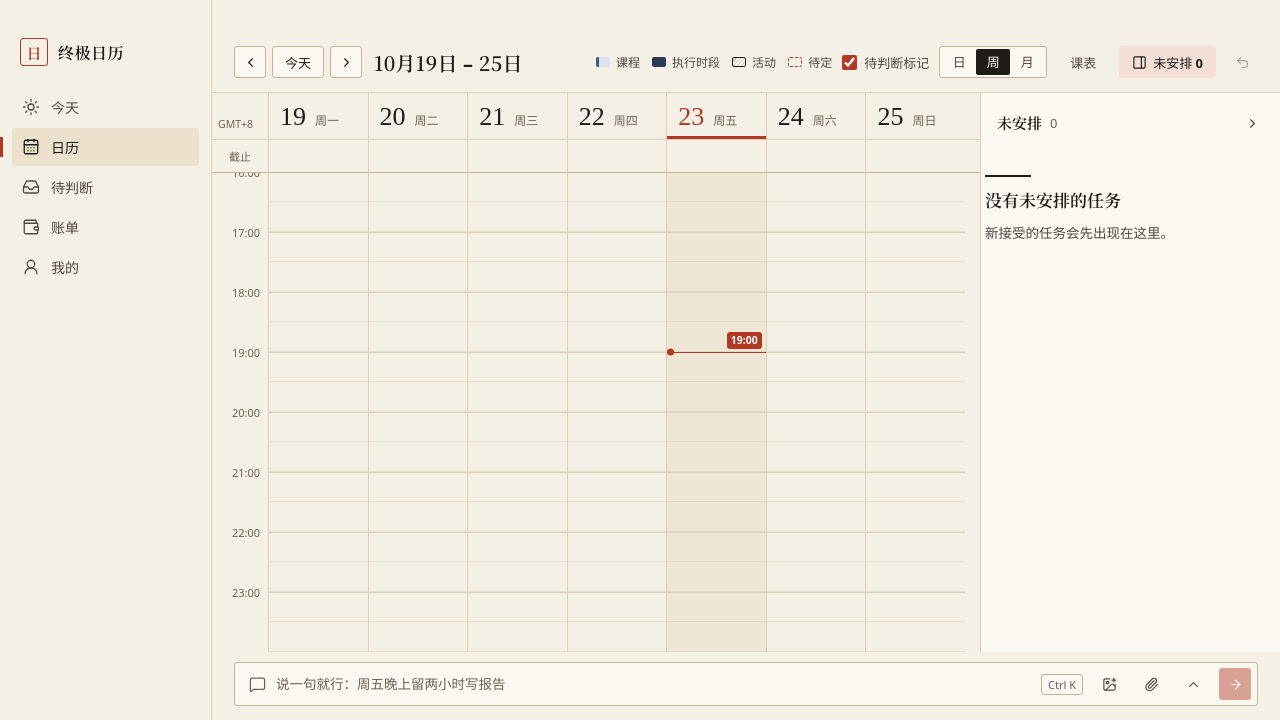
Test case: cancelled activity presentation › retains cancelled history in task details and never reopens it as an editable arrangement
(page scrolled)
Expected: the element named "未安排任务" is shown, [980,93,1279,652]
What coordinates should you click on to do the following:
click the button "今天" below "终极日历"
I would click on:
 (106, 107)
Its box is [12,88,199,126].
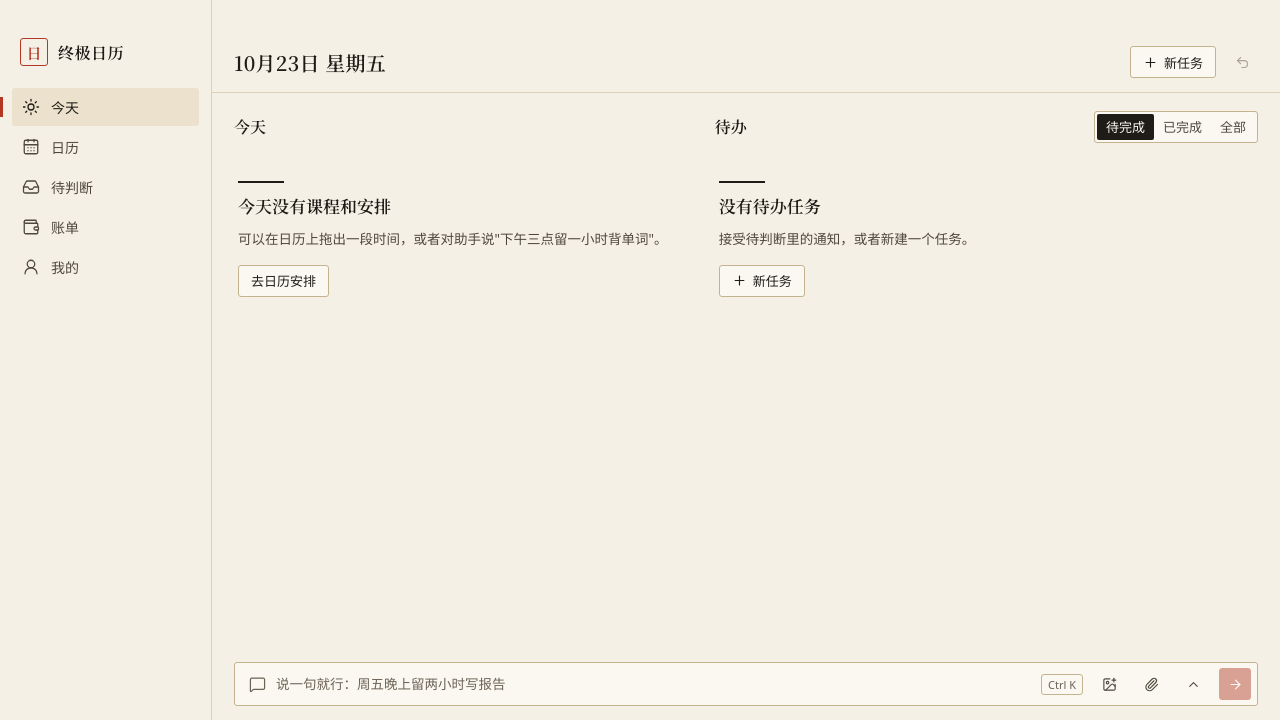
Expected: the button "双周值班" is not shown
What coordinates should you click on to do the following:
click the button "全部"
I would click on:
 (1233, 127)
Its box is [1211,114,1255,140].
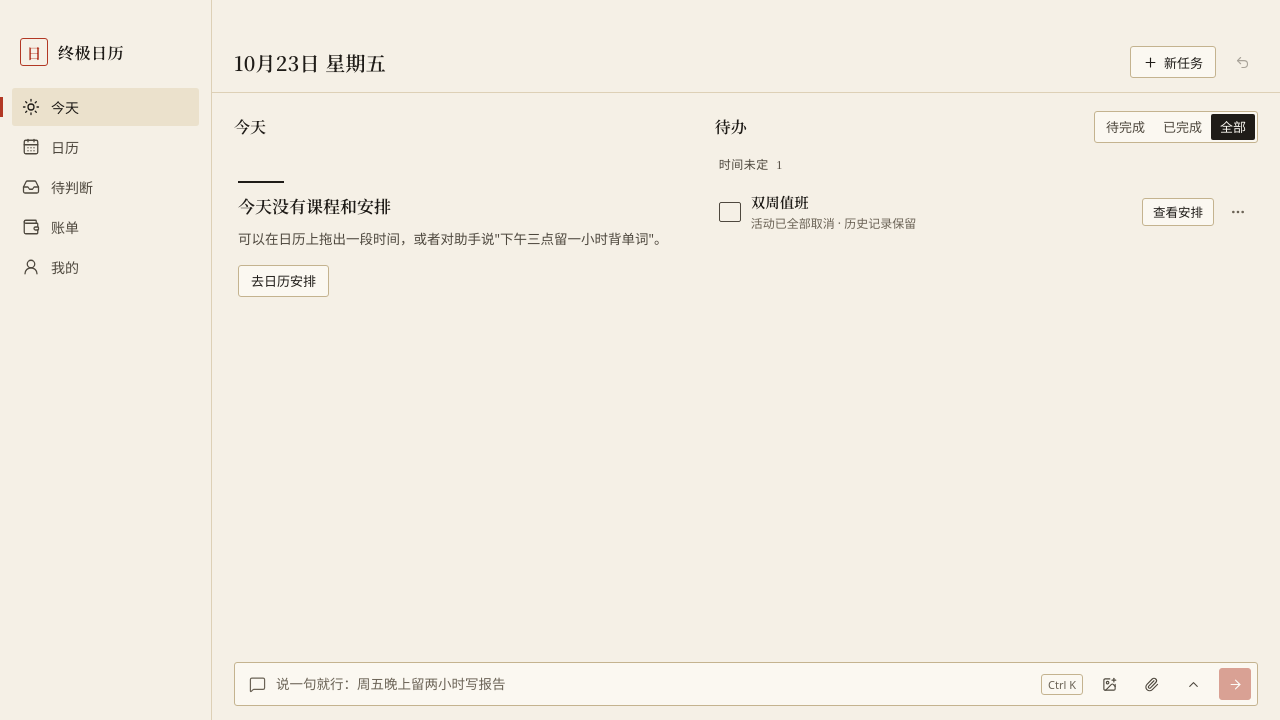
Expected: the text "活动已全部取消 · 历史记录保留" is shown, [751,214,916,232]
What coordinates should you click on to do the following:
click the button "查看安排"
I would click on:
 (1178, 212)
Its box is [1142,198,1214,226].
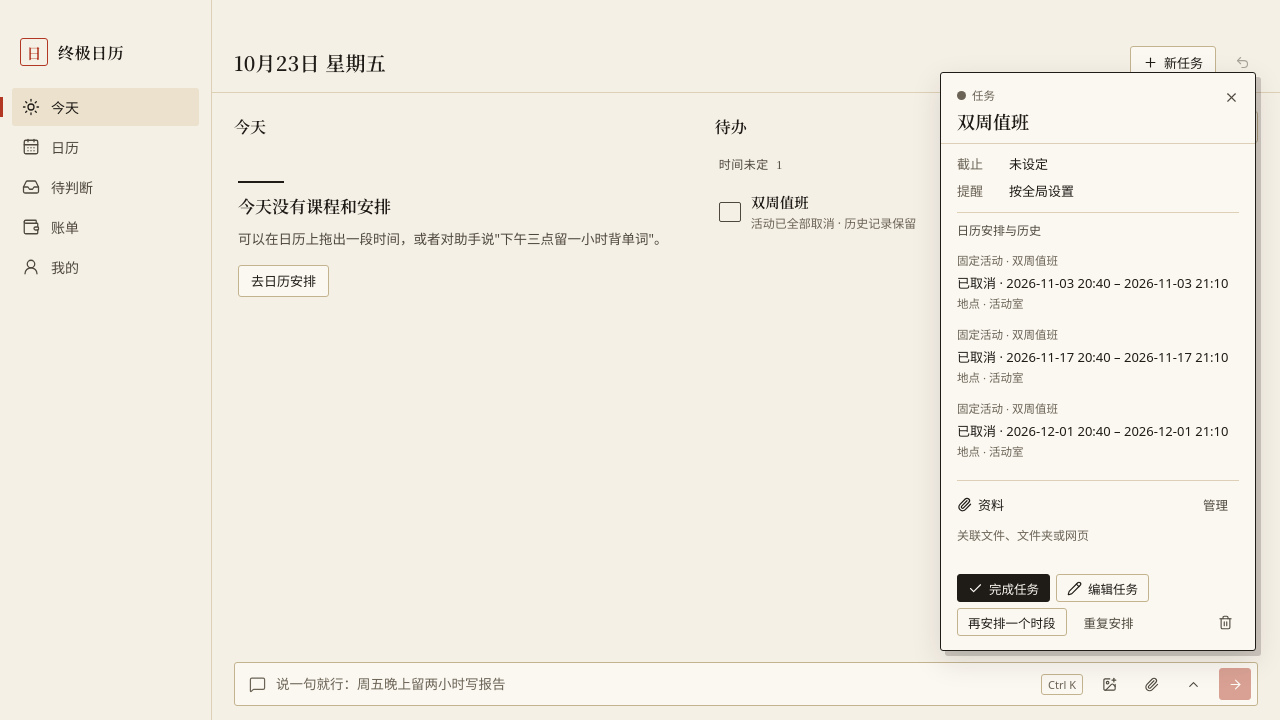
Expected: the text "已取消 · 2026-11-03 20:40 – 2026-11-03 21:10" is shown 3 times, [957,273,1239,292]; [957,347,1239,366]; [957,421,1239,440]
